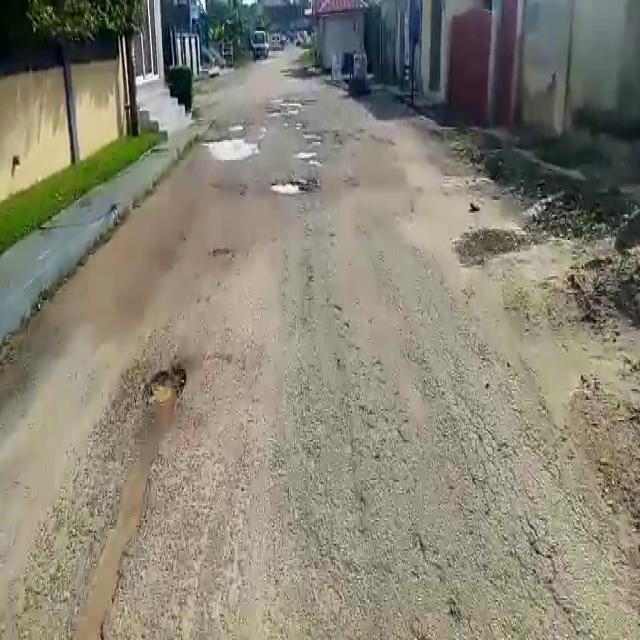Pothole: (146, 365, 181, 417), (204, 132, 257, 159), (266, 179, 309, 198), (294, 151, 318, 158)
